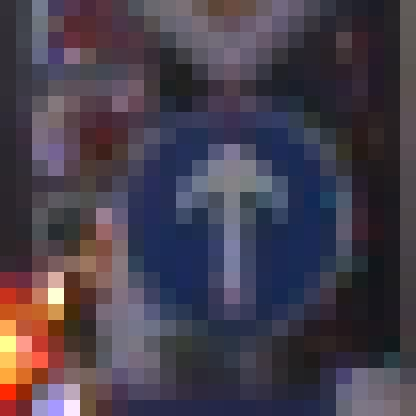AheadOnly: (97, 81, 337, 321)
